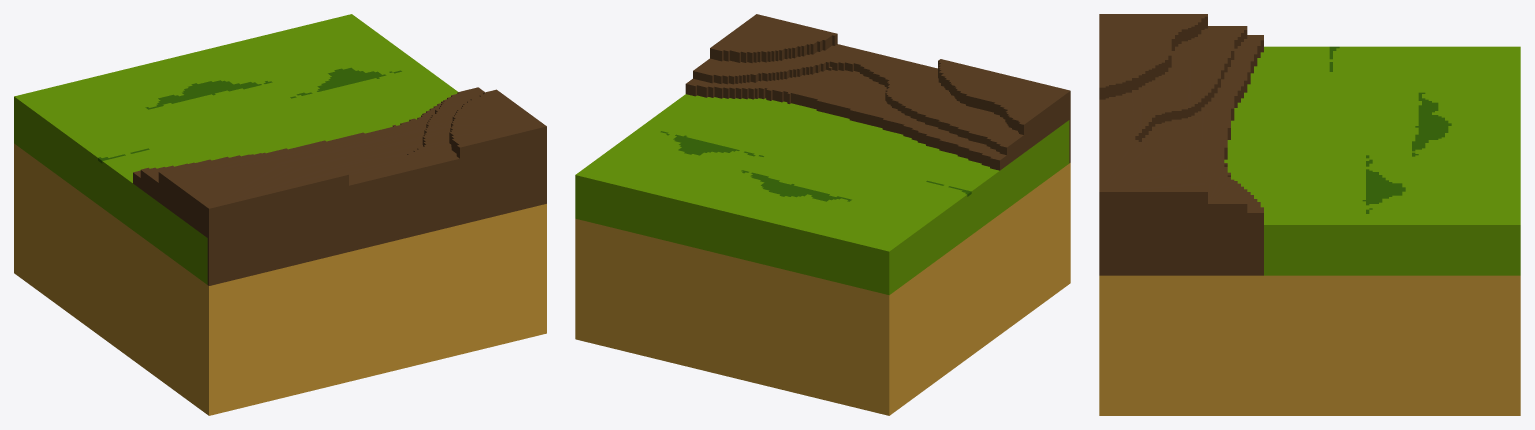
3 views of the same model, side by side, from view 1: azimuth 30°, elevation 25°; view 2: azimuth 150°, elevation 25°; view 3: azimuth 270°, elevation 25° (orthographic). The views are drawn at different scales.
Parts seen in each view (by area): view 1: 12O; view 2: 12O; view 3: 12O.
Part boxes in pixels (x1,y1,x2,y2): 12O: (14,14,546,415); 12O: (575,14,1070,415); 12O: (1099,14,1520,415).
Bounding box in the file's own units: 12.8 × 7.5 × 12.8.
1 material, 1 textured.
